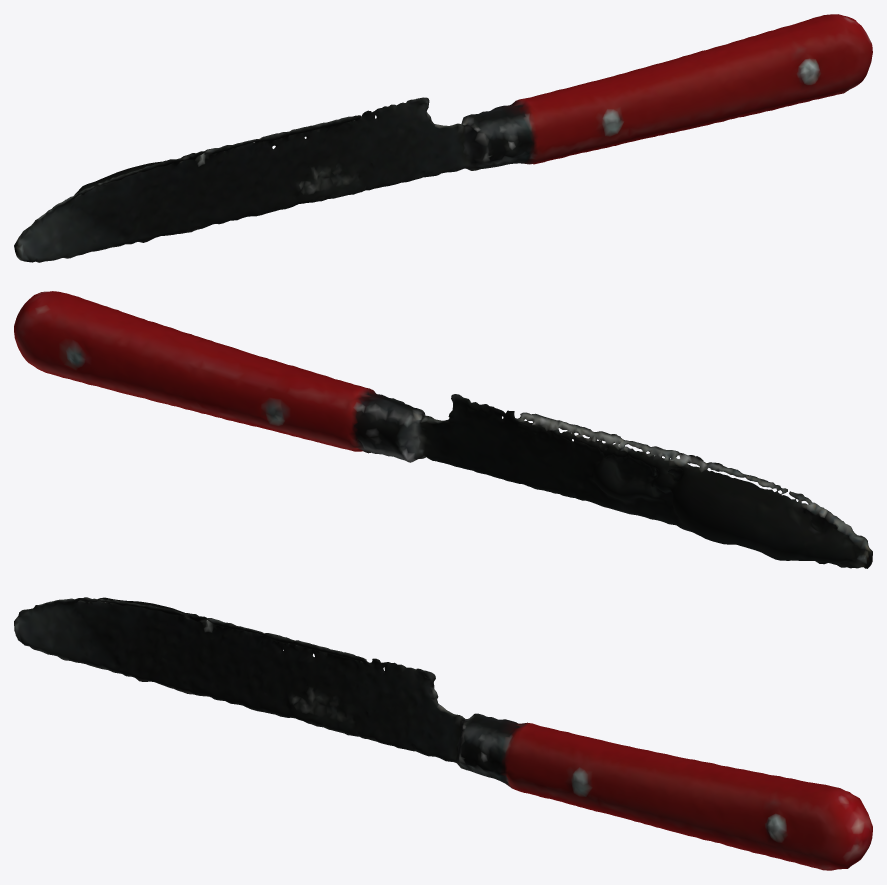
3 renders of one model, top to bottom at view 1: azimuth 30°, elevation 25°; view 2: azimuth 150°, elevation 25°; view 3: azimuth 330°, elevation 25°, orthographic. The views are drawn at different scales.
Size of the model in its own units: 0.2148 by 0.0206 by 0.0226.
